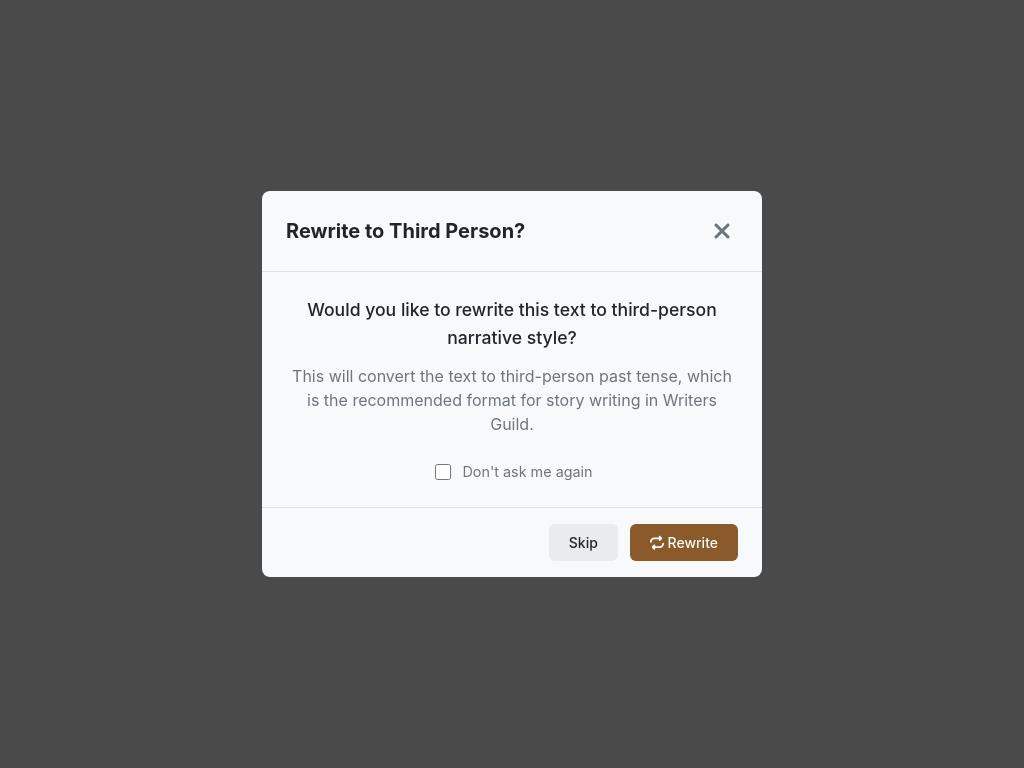
it: ThirdPersonPromptModal › Rapid Click Protection › should disable Skip button after first click
This screenshot has width=1024, height=768.
Click the button "Skip": (583, 543) [549, 524, 618, 561]
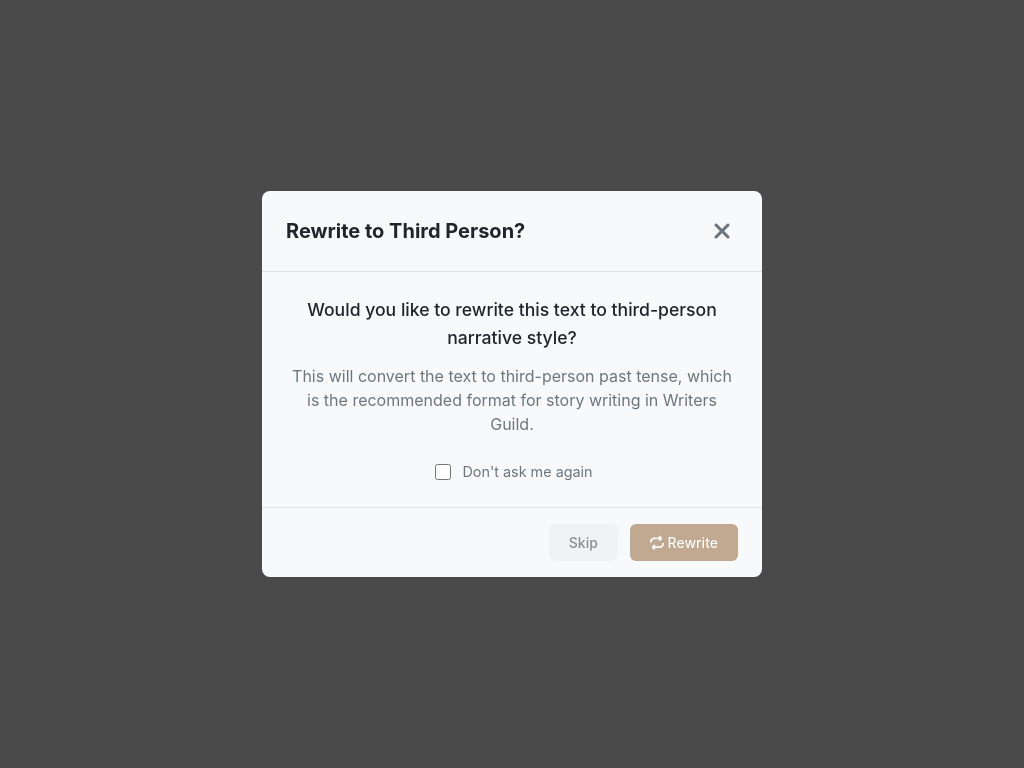
Check: the button "Skip" is disabled, box [549, 524, 618, 561]
